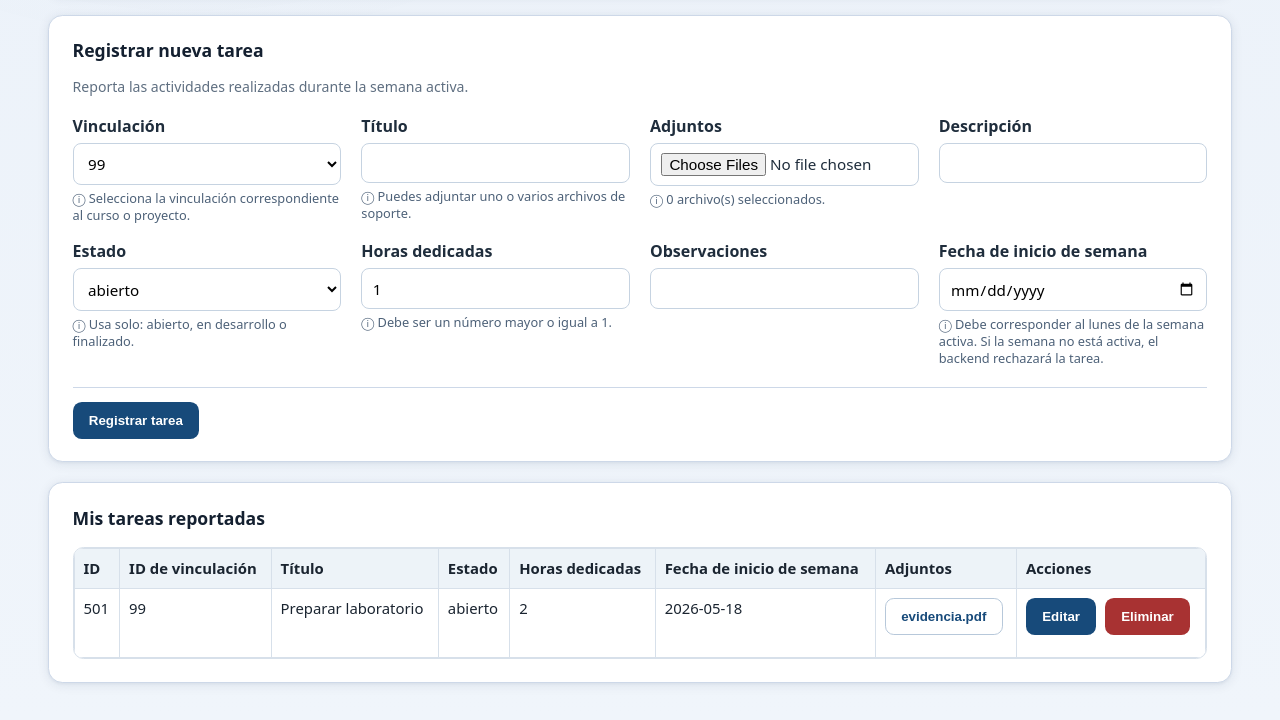
WorkerDashboard › permite editar una tarea y quitar un adjunto existente
(page scrolled)
Click the button "Editar" at (1061, 616), box [1026,598,1096,635]
(page scrolled)
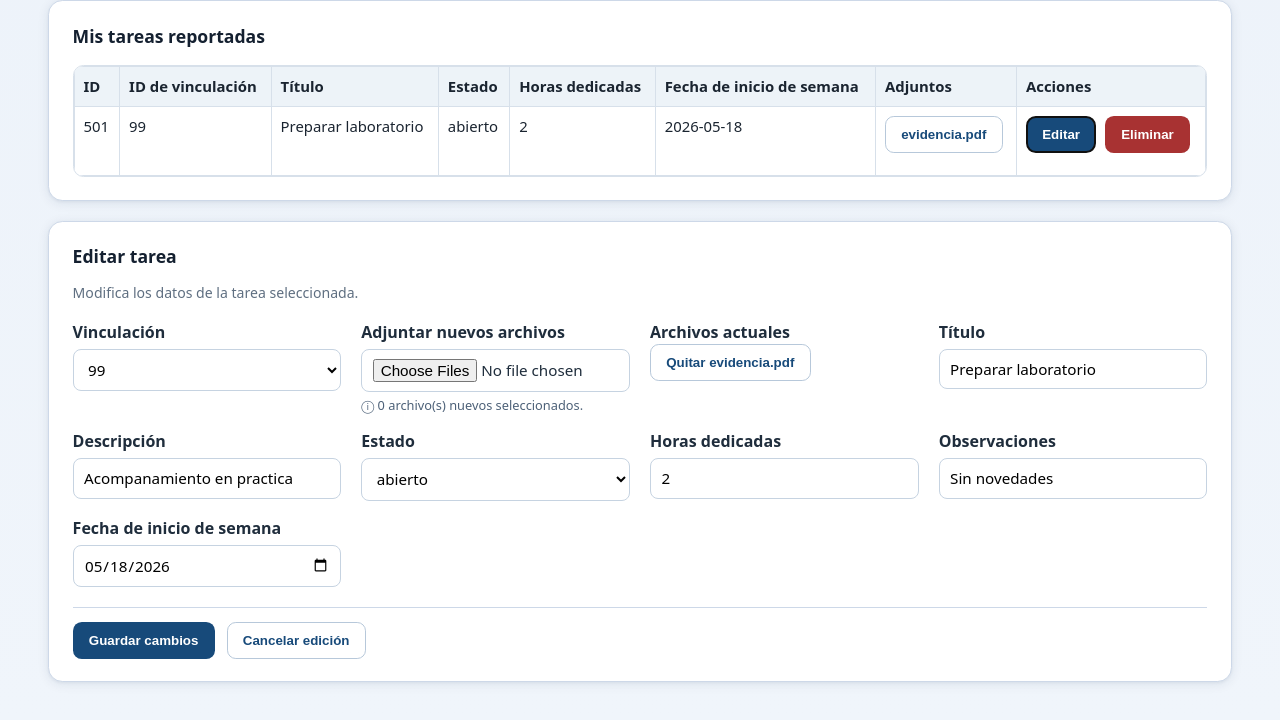
Click the button "Quitar evidencia.pdf" at (730, 362), box [650,344,810,381]
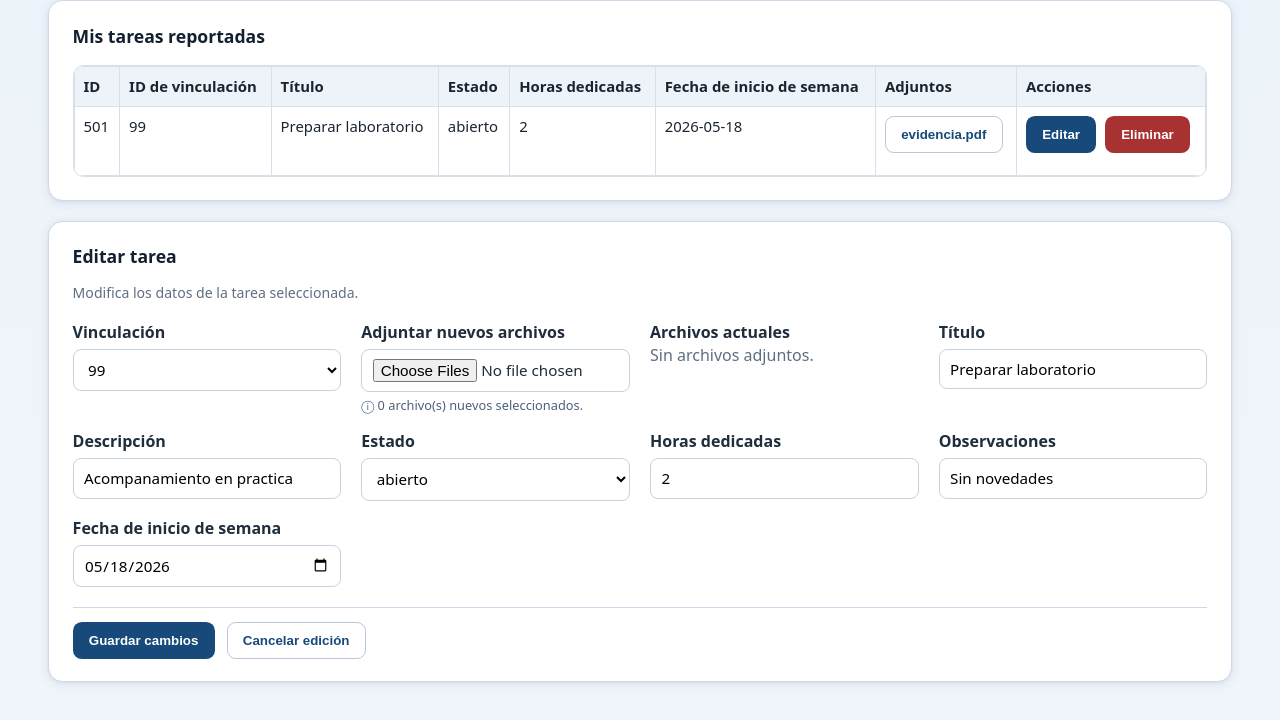
Now the element "Editar tarea" is shown, box [48,221,1232,682]
Replace the text in the field labelled "Título" with "Laboratorio actualizado" at (1073, 369), box [939,349,1207,389]
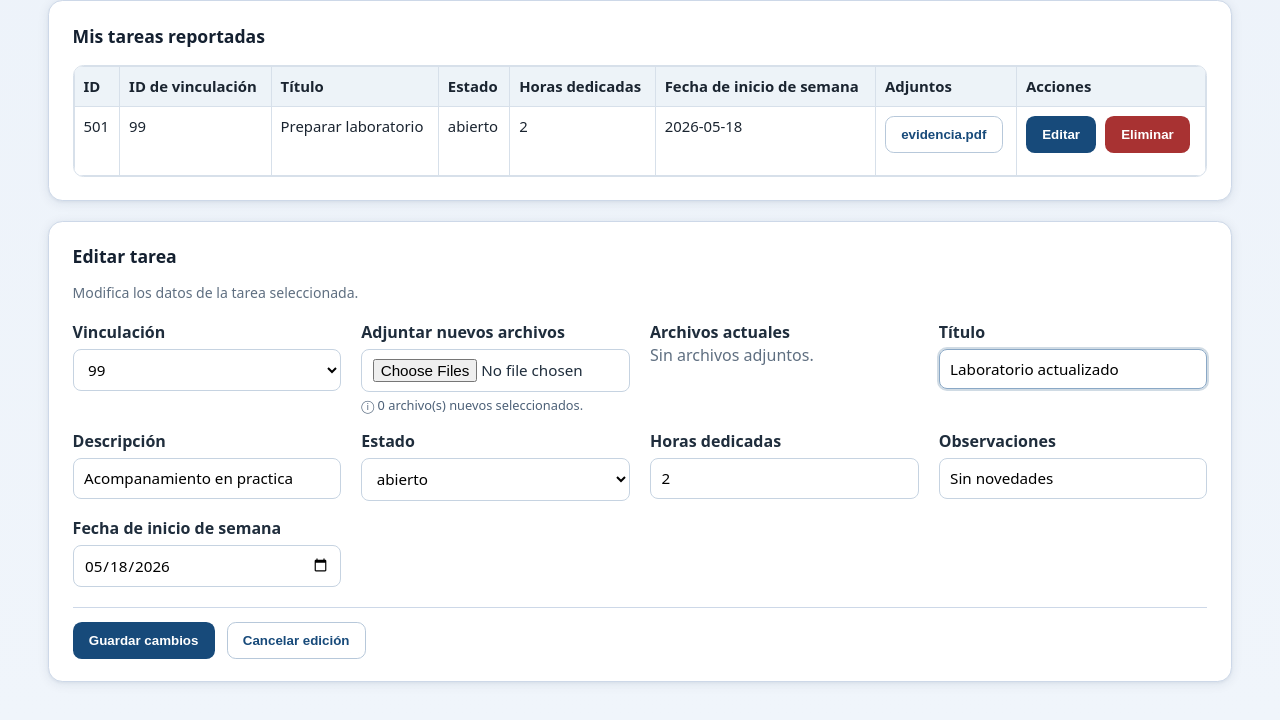
Click the button "Guardar cambios" at (144, 640), box [73,622,215,659]
(page scrolled)
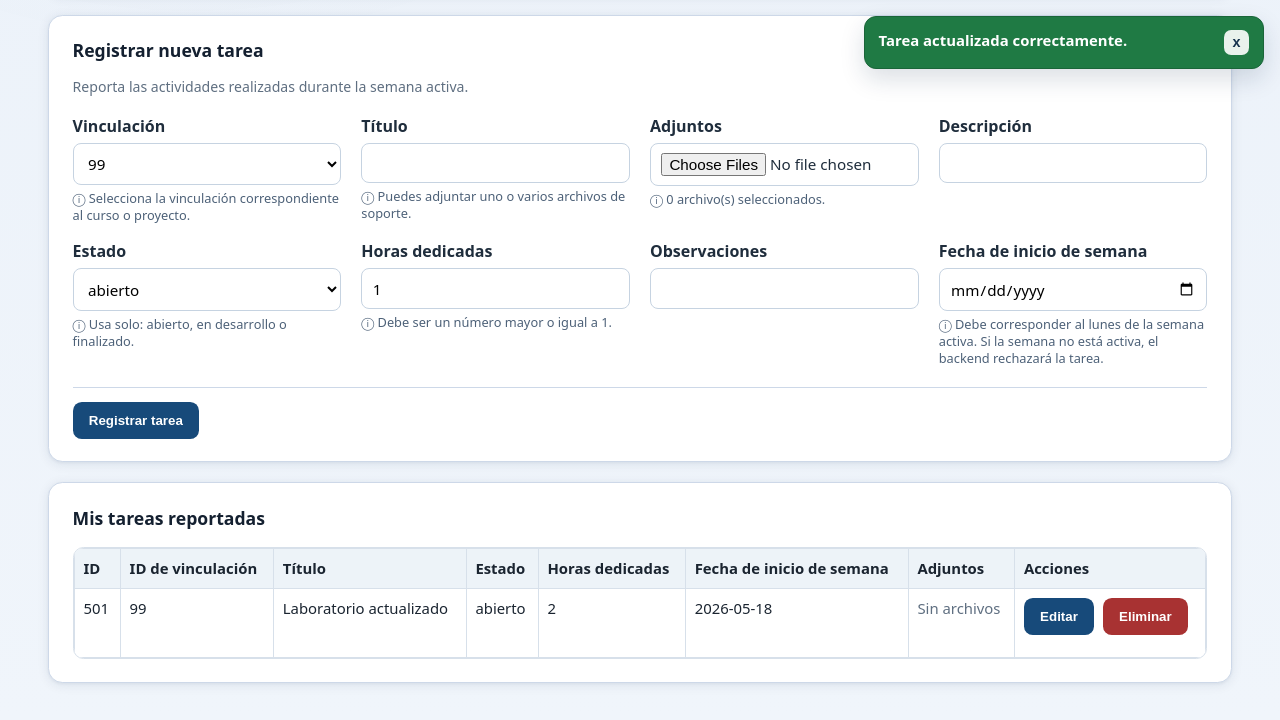
Now the text "Tarea actualizada correctamente." is shown, box [879,30,1127,50]
